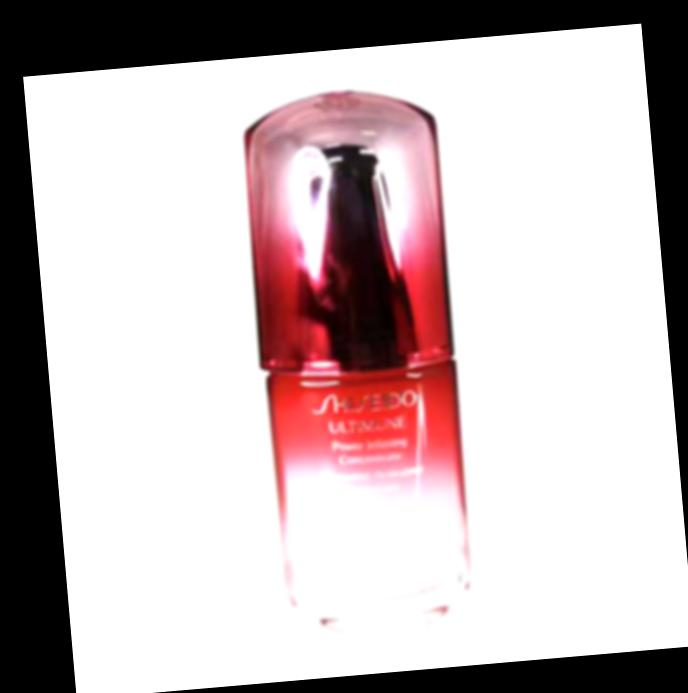cosmetic: (234, 78, 483, 640)
